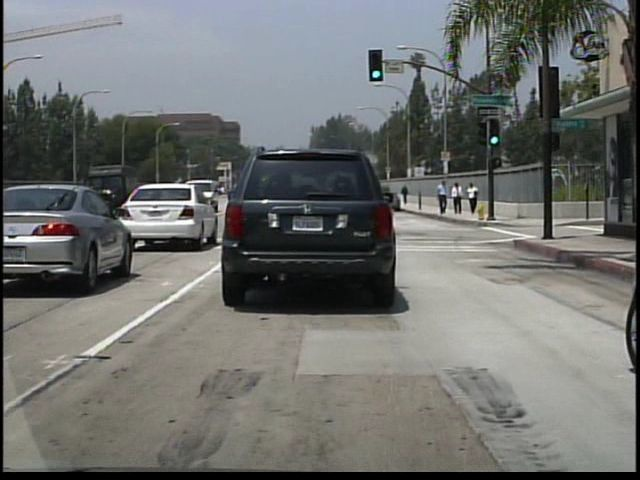person: (438, 178, 452, 217), (468, 181, 482, 215), (451, 183, 465, 217), (401, 183, 411, 206)
